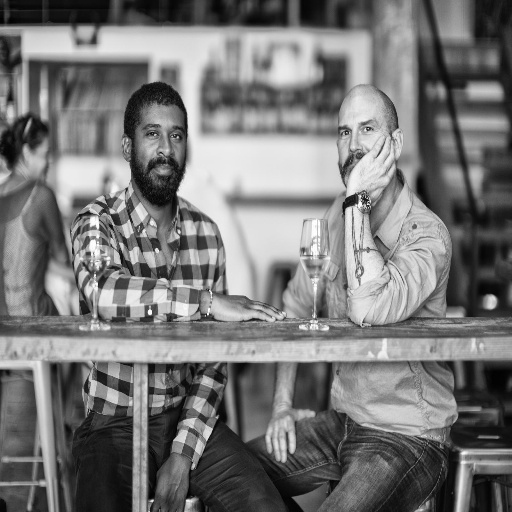hand: (345, 133, 397, 207), (264, 393, 302, 476), (151, 450, 192, 511), (211, 292, 287, 321)
